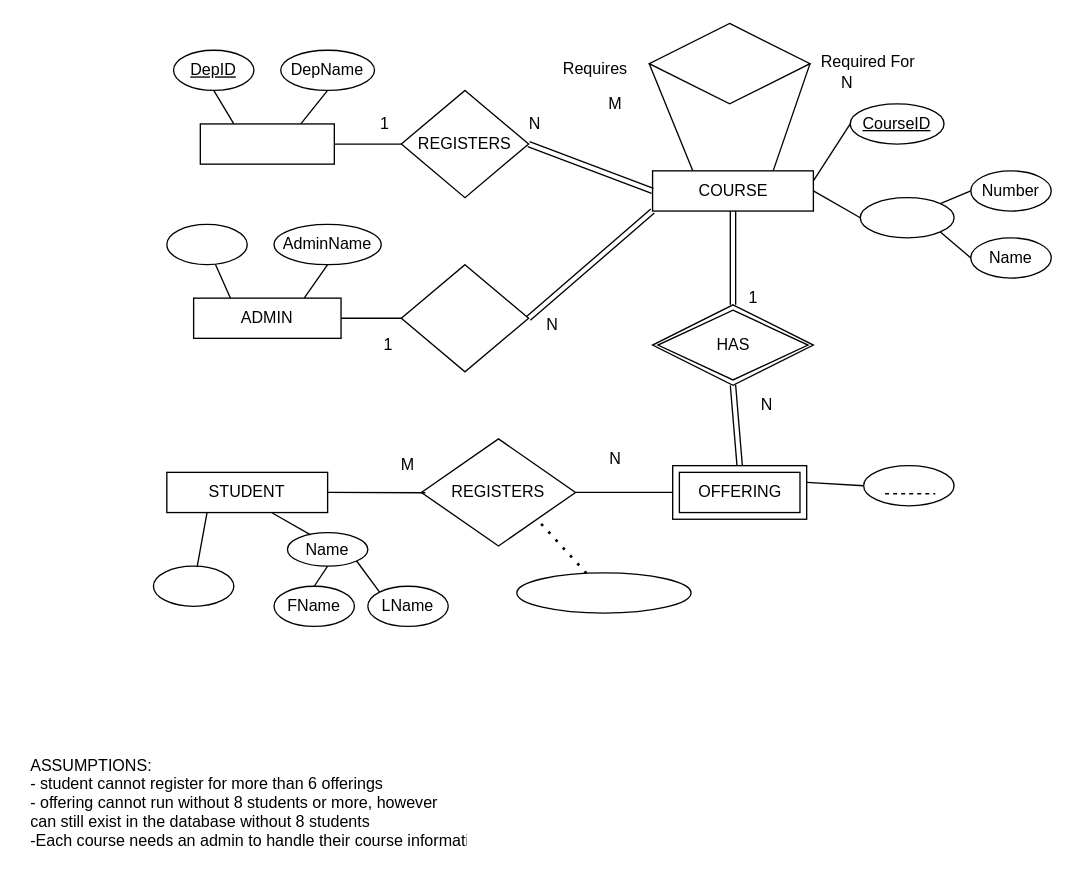
The diagram is 1075 pixels wide and 871 high, and some of its shapes have lost their labels. Each missing label, with the box of its shape:
AdminID: (165, 223, 247, 265)
DEPARTMENT: (199, 123, 334, 164)
Description: (859, 196, 954, 238)
HANDLES: (400, 263, 529, 372)
NumberOfStudents: (515, 572, 691, 613)
PREREQUISITE: (648, 22, 810, 104)
Section: (862, 464, 954, 506)
StudentID: (152, 565, 234, 606)
